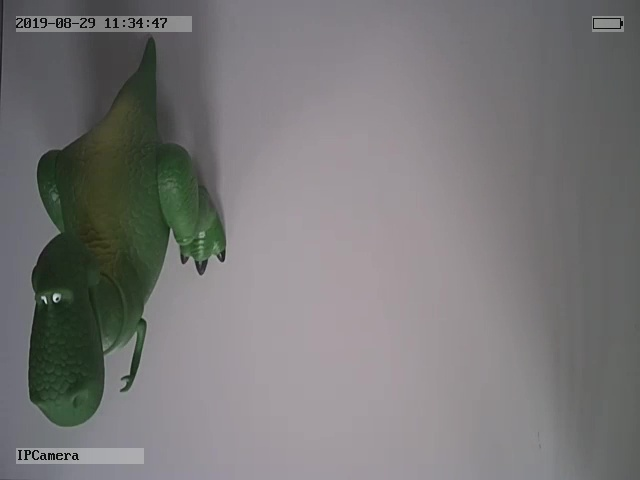rex: (27, 36, 227, 429)
